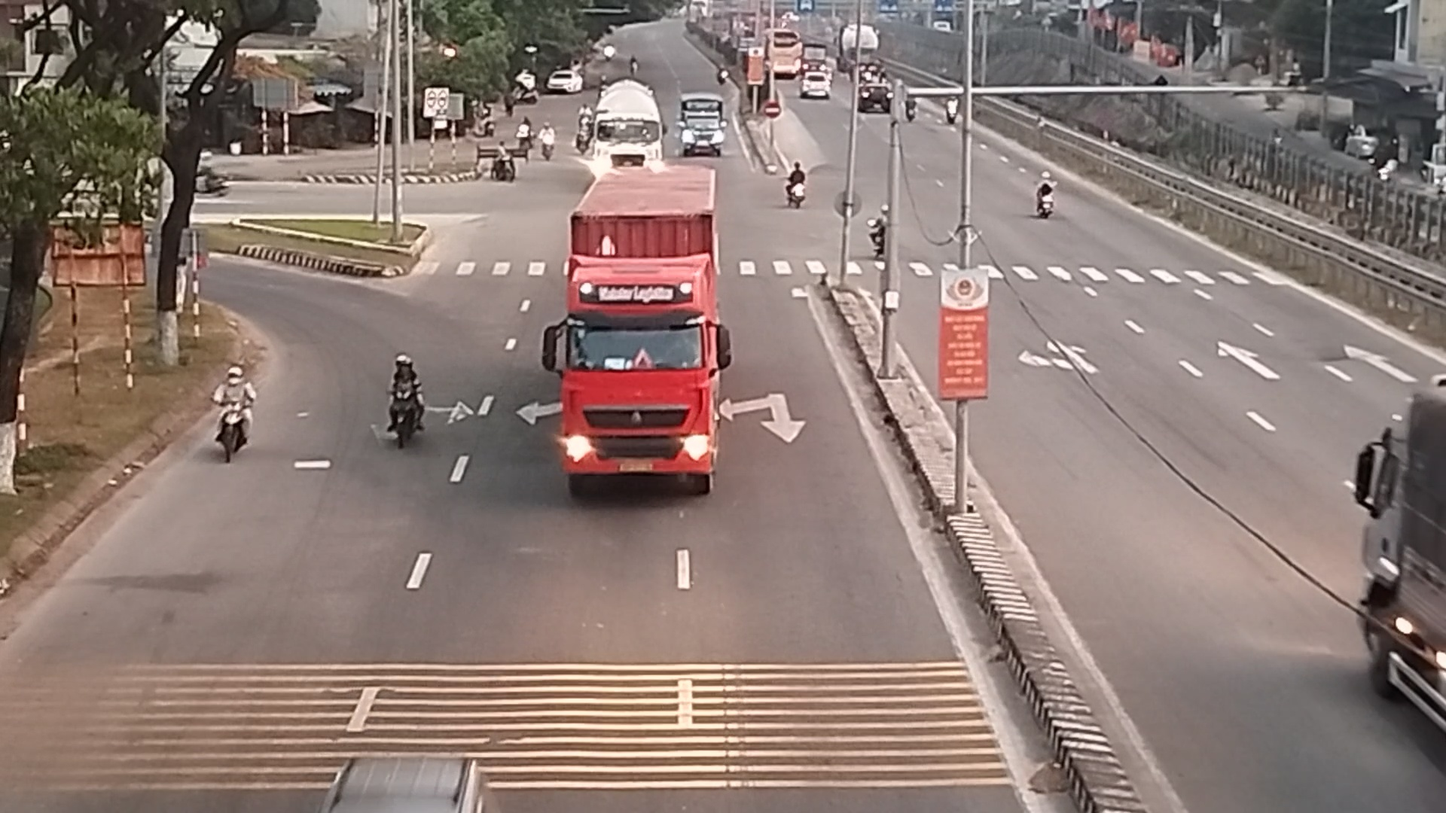Car: (800, 41, 832, 82), (840, 22, 880, 53), (547, 68, 583, 94), (801, 70, 830, 99), (514, 69, 538, 102), (773, 54, 798, 79)
Motor: (211, 366, 257, 462), (388, 354, 425, 448), (867, 204, 888, 261), (491, 140, 516, 182), (785, 161, 806, 208), (576, 104, 594, 154), (1036, 172, 1054, 218), (516, 116, 535, 152), (539, 121, 556, 161)
Truck: (540, 164, 736, 491), (1339, 352, 1446, 749)
